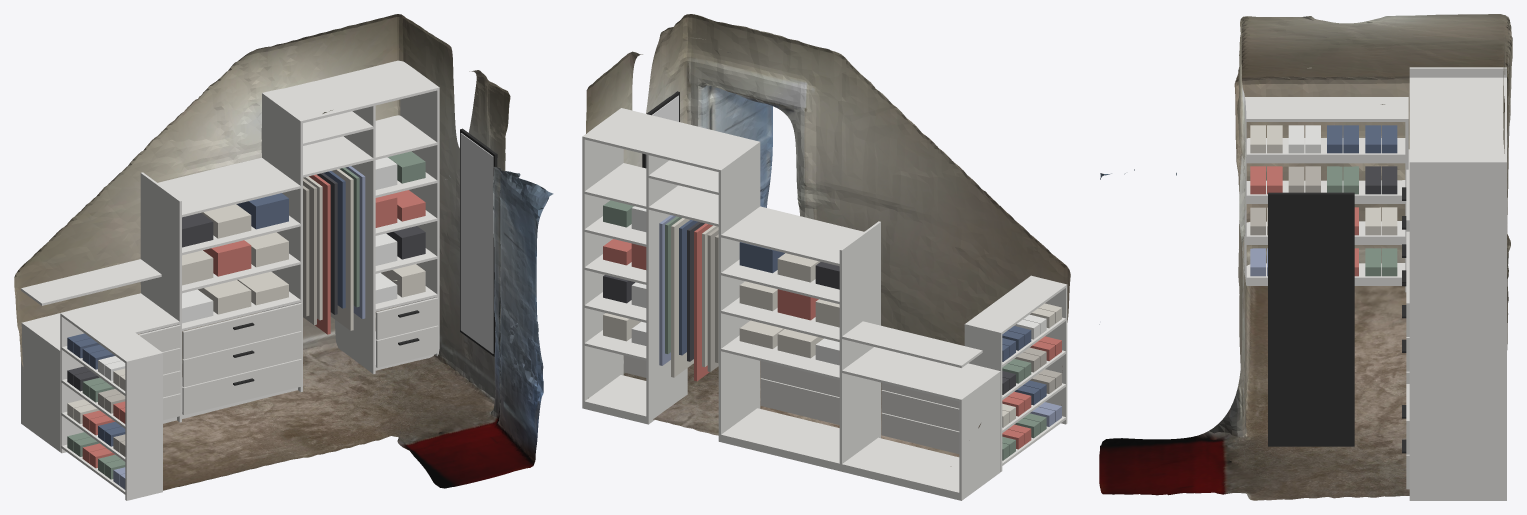
3 renders of one model, left to right at view 1: azimuth 30°, elevation 25°; view 2: azimuth 150°, elevation 25°; view 3: azimuth 270°, elevation 25°, orthographic. The views are drawn at different scales.
Visible parts, largest first — view 1: Scan_Closet, Mirror_Glass, CD_Top, S_Side_Front, P1, P2, B_Shelf_162, P3, A_Side_L, P4, B_Drawer_Front3, B_Drawer_Front1 (+40 smaller); view 2: Scan_Closet, P1, P2, CD_Top, P4, P3, A_Bottom, B_Bottom, B_Shelf_162, A_Top, A_Side_L, A_Shelf_Upper (+40 smaller); view 3: Scan_Closet, P4, Mirror_Frame, CD_Top, S_Top, S_Lip_4, S_Shelf_4, P1, S_Shelf_3, S_Shelf_2, S_Lip_2, S_Shelf_1 (+20 smaller).
Boxes of the visible parts, x1,y1,x2,y2 form: Scan_Closet: [14, 14, 553, 490]; Mirror_Glass: [460, 133, 493, 353]; CD_Top: [262, 60, 439, 123]; S_Side_Front: [125, 352, 162, 500]; P1: [140, 172, 181, 422]; P2: [261, 92, 302, 391]; B_Shelf_162: [158, 157, 300, 217]; P3: [335, 78, 375, 374]; A_Side_L: [21, 323, 60, 451]; P4: [399, 61, 439, 356]; B_Drawer_Front3: [182, 303, 301, 359]; B_Drawer_Front1: [182, 359, 301, 414]; Scan_Closet: [586, 14, 1070, 466]; P1: [839, 221, 880, 471]; P2: [718, 142, 760, 441]; CD_Top: [582, 108, 760, 172]; P4: [582, 127, 623, 408]; P3: [646, 123, 687, 424]; A_Bottom: [842, 437, 979, 500]; B_Bottom: [721, 408, 839, 470]; B_Shelf_162: [721, 206, 863, 266]; A_Top: [842, 347, 999, 401]; A_Side_L: [959, 370, 1000, 498]; A_Shelf_Upper: [842, 321, 982, 367]; Scan_Closet: [1099, 14, 1512, 500]; P4: [1409, 160, 1506, 500]; Mirror_Frame: [1268, 192, 1354, 446]; CD_Top: [1409, 77, 1506, 165]; S_Top: [1246, 97, 1408, 121]; S_Lip_4: [1246, 153, 1405, 160]; S_Shelf_4: [1246, 138, 1405, 163]; P1: [1409, 67, 1506, 77]; S_Shelf_3: [1246, 180, 1405, 203]; S_Shelf_2: [1246, 221, 1405, 244]; S_Lip_2: [1246, 235, 1405, 241]; S_Shelf_1: [1246, 263, 1405, 285].
Bounding box in the file's own units: 3.24 × 2.63 × 2.38.
14 materials, 1 textured.
